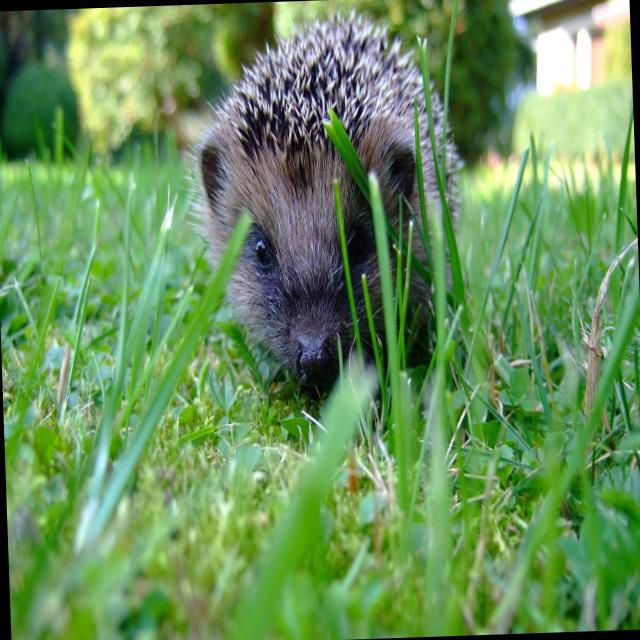Hedgehog: (184, 8, 468, 422)
